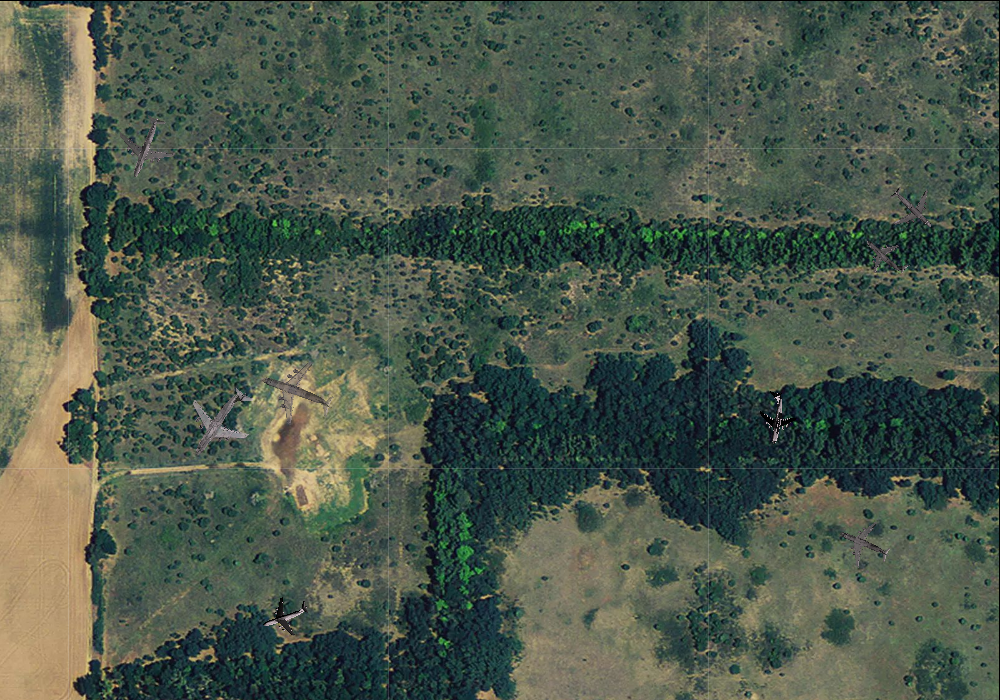plane: (167, 369, 273, 477), (249, 346, 344, 439), (106, 106, 184, 187), (877, 173, 948, 243), (830, 510, 899, 578), (853, 223, 919, 288), (255, 587, 315, 645), (748, 387, 802, 447)
